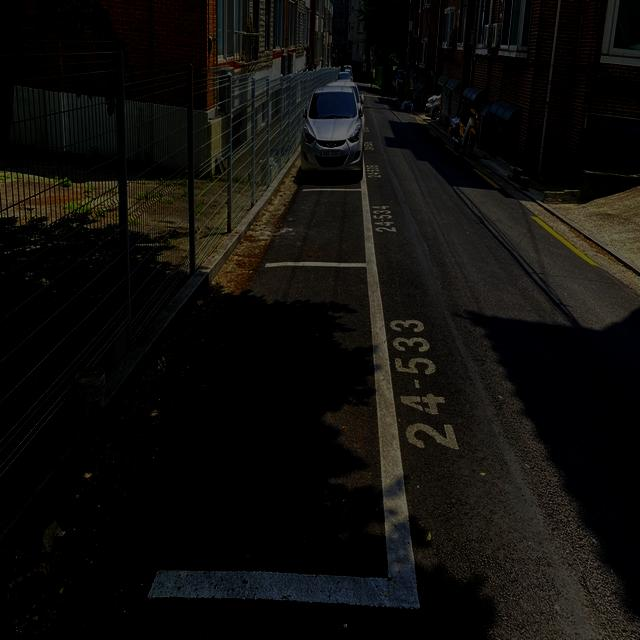empty: (115, 260, 427, 609), (250, 182, 386, 274)
occupied: (300, 84, 368, 170)
